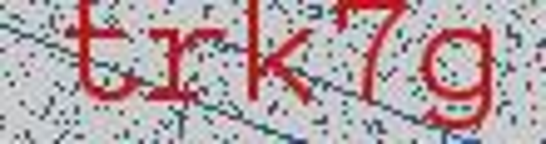7: (329, 1, 412, 103)
g: (414, 17, 505, 134)
k: (236, 1, 325, 116)
r: (145, 14, 228, 117)
t: (61, 1, 143, 112)
